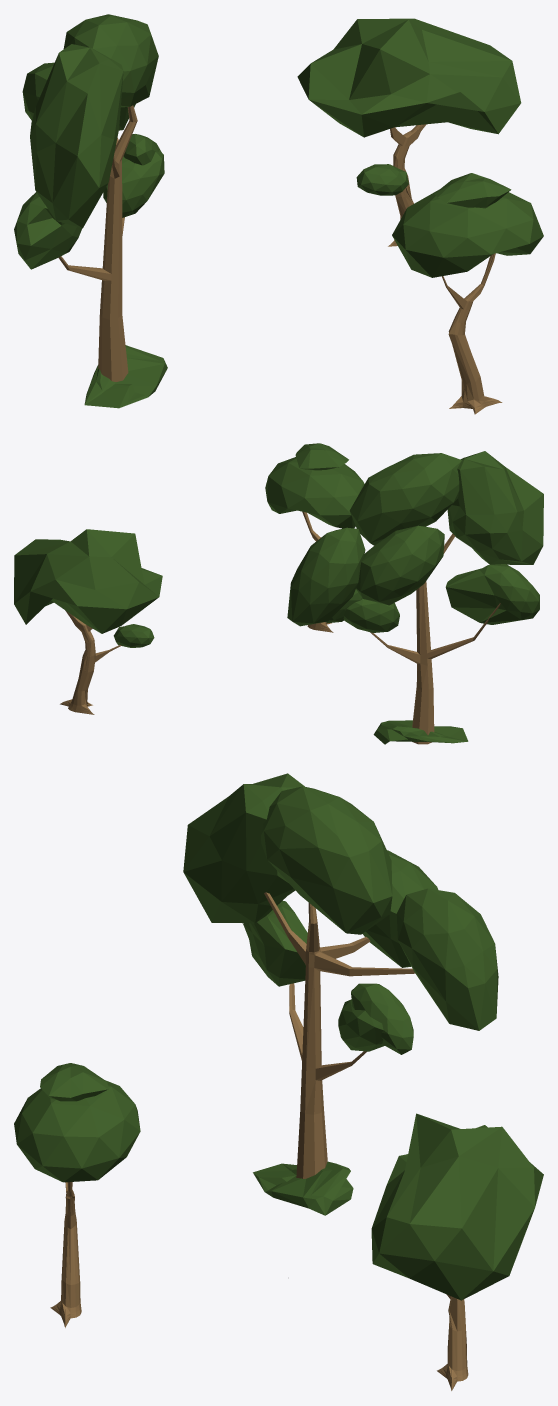
The model's file is low_poly_trees.gltf.
The picture shows the model from 3 angles, top to bottom: view 1: azimuth 30°, elevation 25°; view 2: azimuth 150°, elevation 25°; view 3: azimuth 270°, elevation 25°; orthographic projection. The views are drawn at different scales.
Visible parts, largest first — view 1: skp7EEA, Icosphere#5, skpC133, Icosphere.00#5, Cylinder#13; view 2: skp7EEA, Icosphere#5, skpC133, Cylinder#13, Icosphere.00#5; view 3: skp7EEA, Icosphere#5, skpC133, Cylinder#13.
Boxes of the visible parts, x1=… form: skp7EEA: x1=14, y1=14, x2=167, y2=408; Icosphere#5: x1=297, y1=18, x2=521, y2=137; skpC133: x1=392, y1=173, x2=543, y2=414; Icosphere.00#5: x1=356, y1=164, x2=408, y2=195; Cylinder#13: x1=388, y1=124, x2=426, y2=246; skp7EEA: x1=287, y1=451, x2=543, y2=744; Icosphere#5: x1=14, y1=529, x2=162, y2=633; skpC133: x1=265, y1=443, x2=364, y2=632; Cylinder#13: x1=60, y1=610, x2=121, y2=714; Icosphere.00#5: x1=113, y1=624, x2=154, y2=647; skp7EEA: x1=183, y1=773, x2=498, y2=1215; Icosphere#5: x1=371, y1=1113, x2=543, y2=1300; skpC133: x1=14, y1=1063, x2=140, y2=1327; Cylinder#13: x1=437, y1=1294, x2=468, y2=1390.
Bounding box in the file's own units: 12.39 × 7.56 × 9.3.
